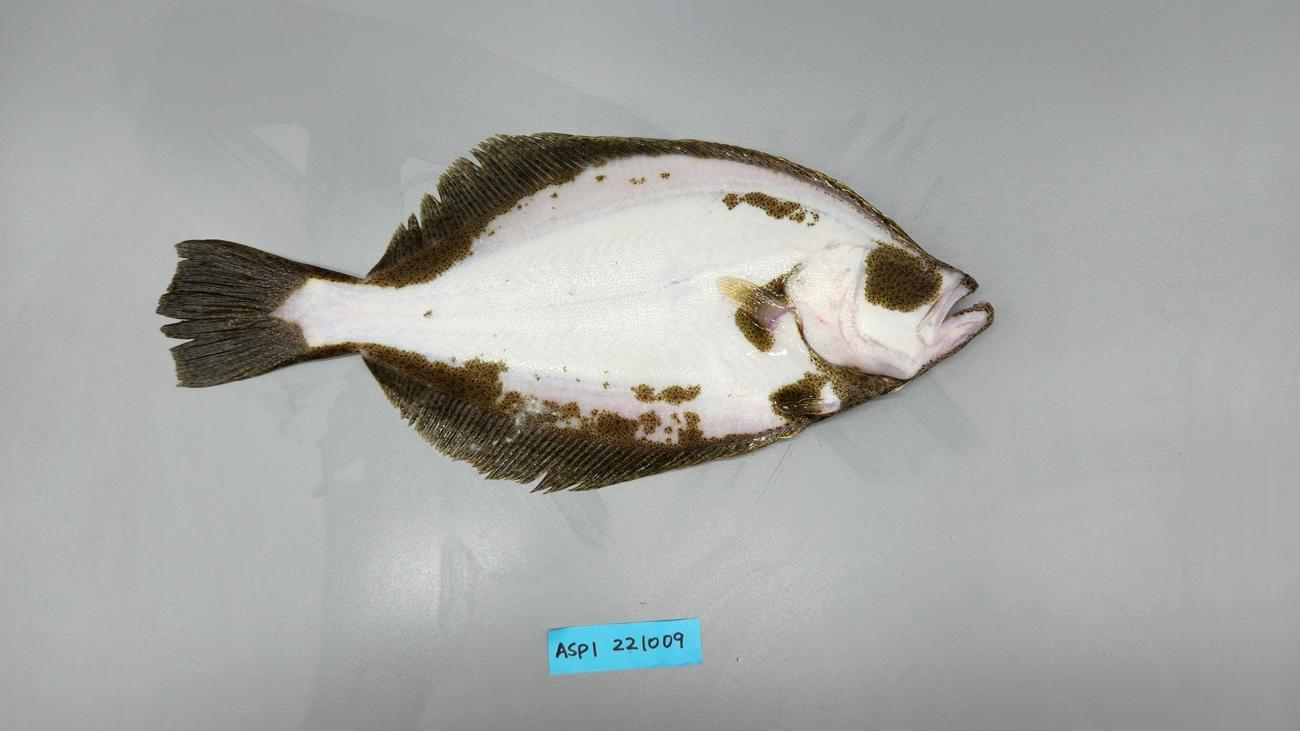SPDYH: (289, 262, 351, 283), (809, 392, 859, 410)
SPFAH: (446, 422, 754, 489)
SPOUY: (141, 126, 1008, 504)
